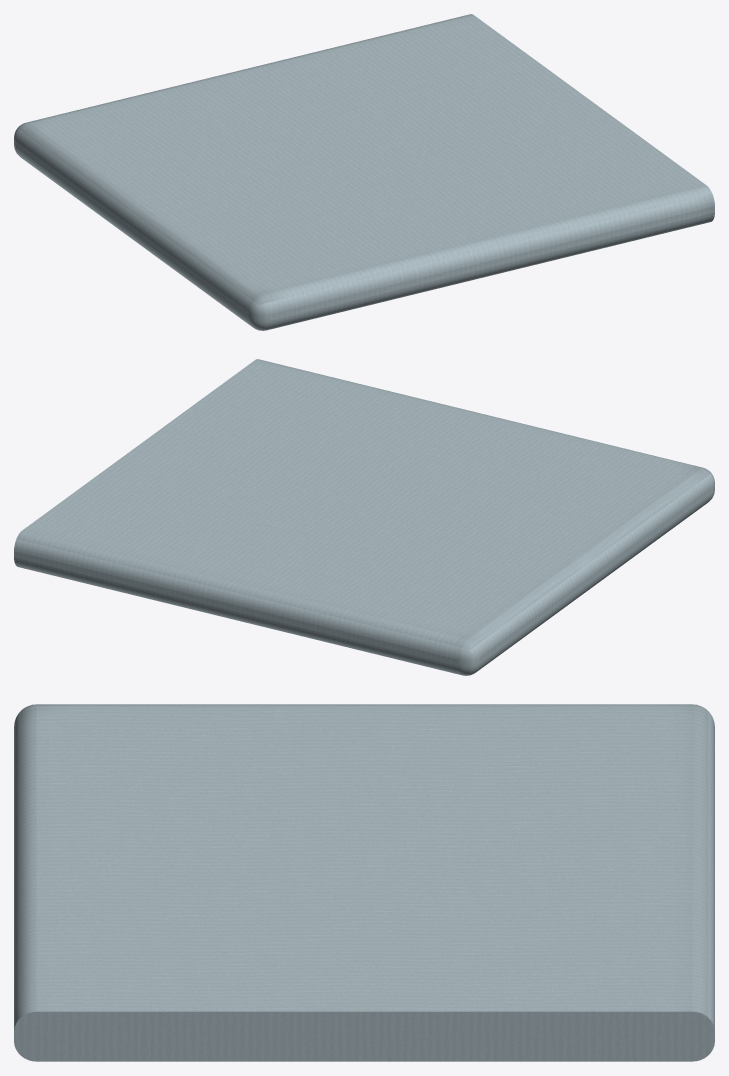
File: 15-deep-lunch-tin-lid-1.fbx
3 views of the same model, one above another, from view 1: azimuth 30°, elevation 25°; view 2: azimuth 150°, elevation 25°; view 3: azimuth 270°, elevation 25° (orthographic). The views are drawn at different scales.
Parts seen in each view (by area): view 1: deep-lunch-tin-lid-1; view 2: deep-lunch-tin-lid-1; view 3: deep-lunch-tin-lid-1.
Part boxes in pixels (bbox=[...]): deep-lunch-tin-lid-1: bbox=[14, 14, 714, 330]; deep-lunch-tin-lid-1: bbox=[14, 359, 714, 675]; deep-lunch-tin-lid-1: bbox=[14, 704, 714, 1061].
Size of the model in its own units: 8500 by 630 by 8000.
1 material, 1 textured.
